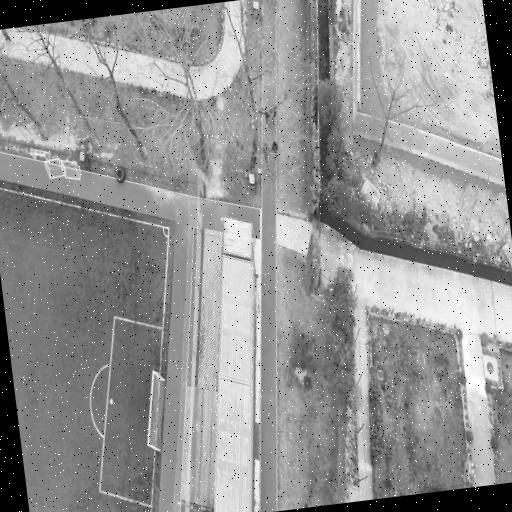person: (271, 140, 279, 154), (2, 29, 10, 41), (270, 107, 275, 126), (263, 143, 268, 161), (264, 110, 268, 127)
